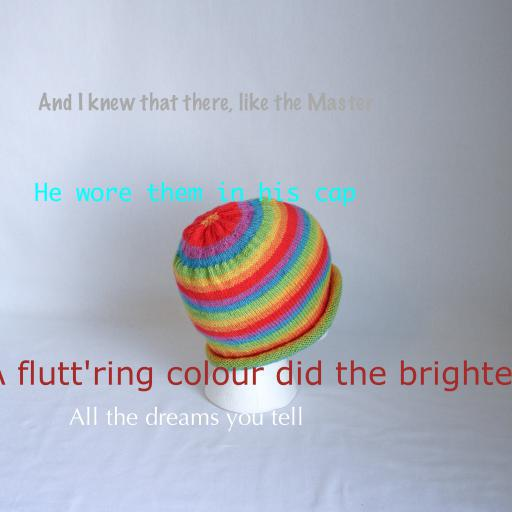Marker Felt: (38, 92, 374, 113)
Monaco: (34, 181, 356, 207)
Optima: (68, 406, 304, 432)
Verdana: (0, 360, 512, 392)
